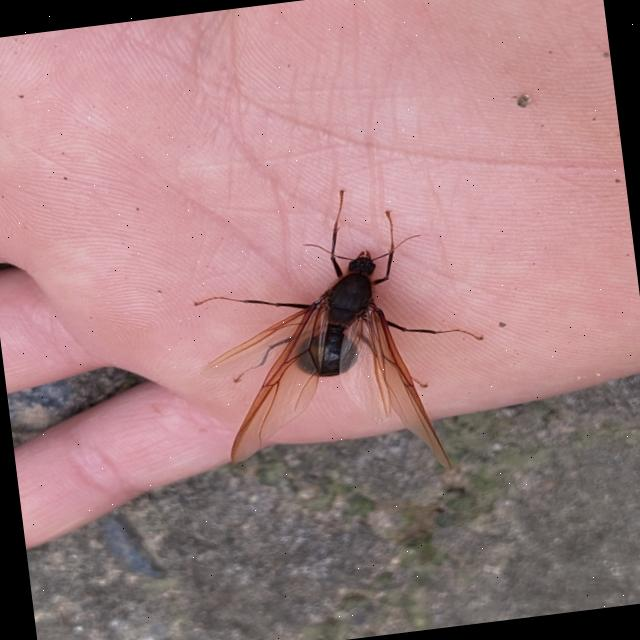Alive-Male-Alate: (180, 174, 500, 499)
